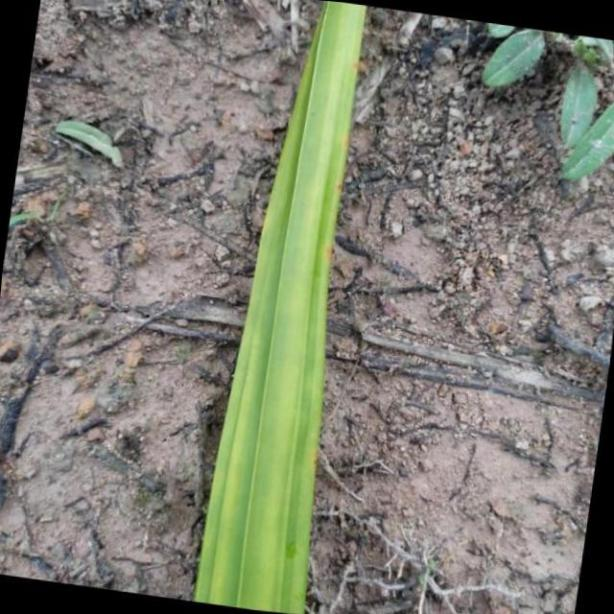nitrogen: (196, 0, 364, 614)
